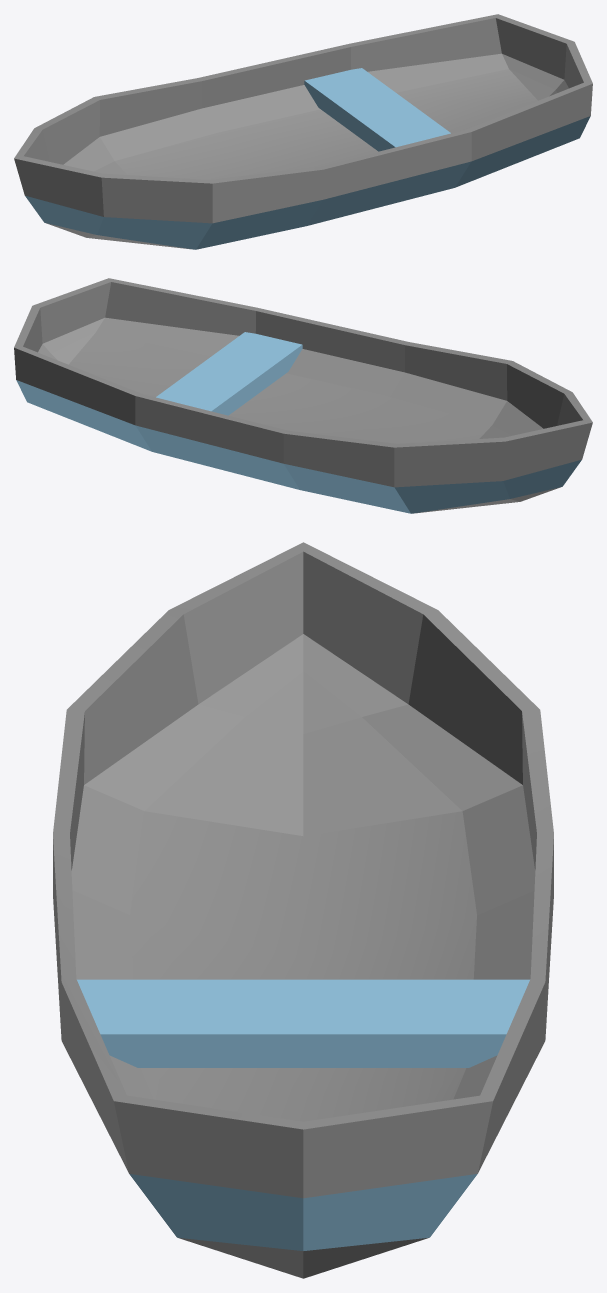
The model's file is Tentacle_Bateau_002.FBX.
3 views of the same model, one above another, from view 1: azimuth 30°, elevation 25°; view 2: azimuth 150°, elevation 25°; view 3: azimuth 270°, elevation 25° (orthographic). The views are drawn at different scales.
Parts seen in each view (by area): view 1: Tentacle_Bateau_002; view 2: Tentacle_Bateau_002; view 3: Tentacle_Bateau_002.
Part boxes in pixels (x1,y1,x2,y2): Tentacle_Bateau_002: (14, 14, 592, 249); Tentacle_Bateau_002: (14, 278, 592, 513); Tentacle_Bateau_002: (53, 542, 553, 1278).
Bounding box in the file's own units: 69.87 × 15.38 × 27.05.
